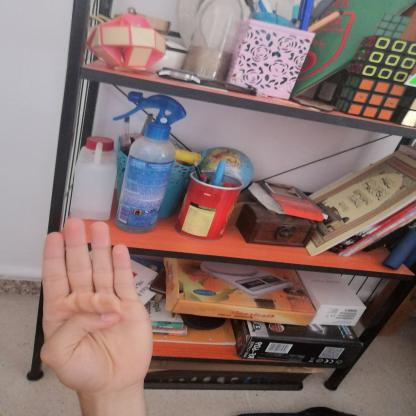KAAF: (22, 208, 168, 403)
